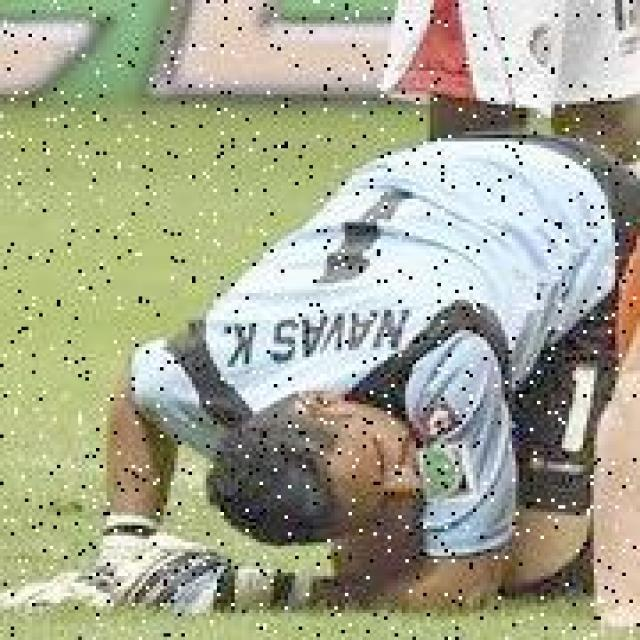fall: (32, 138, 608, 617)
